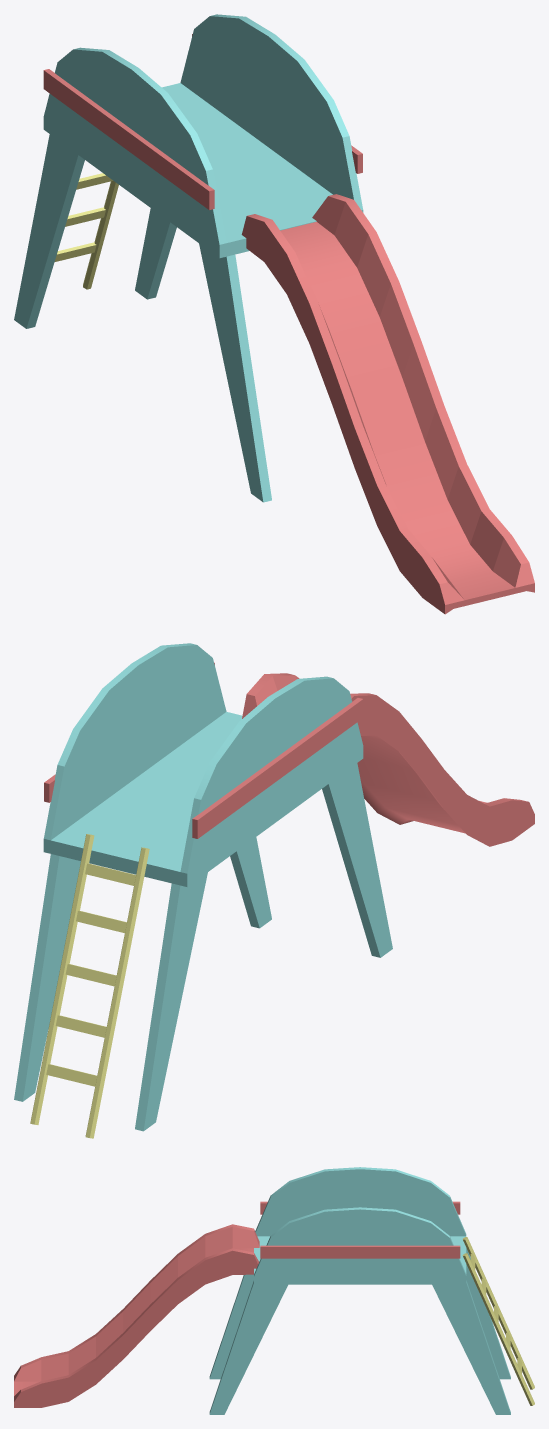
Rendered from Slide.fbx.
3 views of the same model, one above another, from view 1: azimuth 30°, elevation 25°; view 2: azimuth 150°, elevation 25°; view 3: azimuth 270°, elevation 25° (orthographic). The views are drawn at different scales.
Visible parts, largest first — view 1: Slide; view 2: Slide; view 3: Slide.
Boxes of the visible parts, <box> form: Slide: <box>14,14,534,614</box>; Slide: <box>14,643,534,1138</box>; Slide: <box>14,1167,534,1414</box>.
Size of the model in its own units: 149 by 321 by 725.
